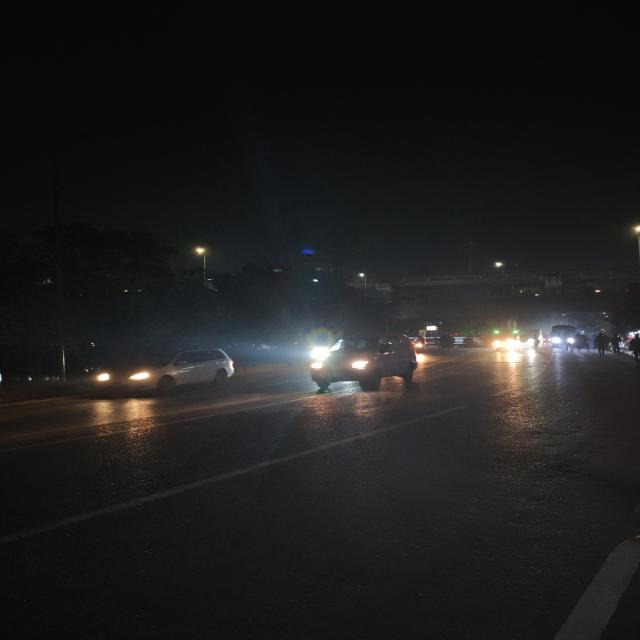bus: (548, 324, 576, 348)
car: (92, 343, 242, 400), (306, 336, 425, 394)
motorcycle: (413, 333, 428, 352)
pedestrian: (595, 329, 612, 356), (573, 331, 590, 355), (530, 334, 544, 353)
rickshaw: (433, 334, 460, 353)
truck: (490, 328, 520, 355)
